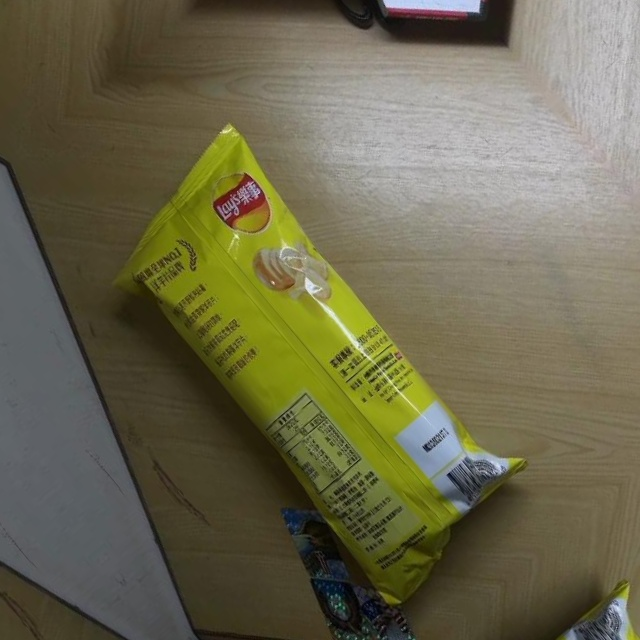Lay-s-original: (75, 113, 546, 617)
